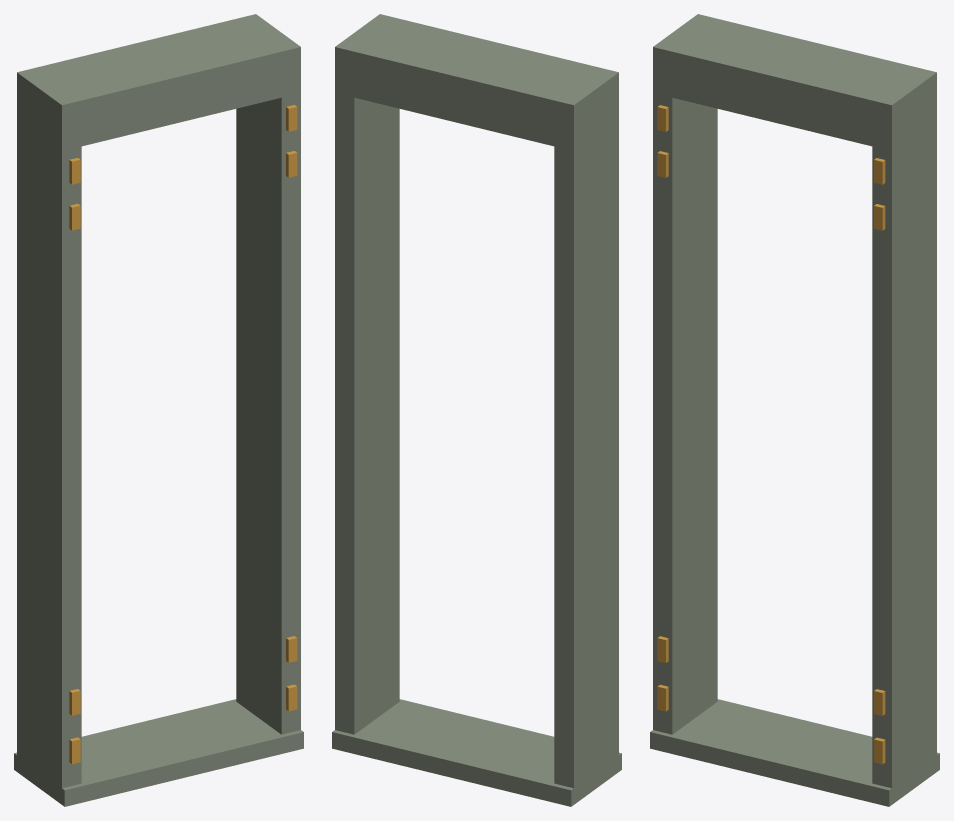
The model's file is CMU3DHybrisaGlassAirlockOpen.glb.
3 renders of one model, left to right at view 1: azimuth 30°, elevation 25°; view 2: azimuth 150°, elevation 25°; view 3: azimuth 330°, elevation 25°, orthographic.
Parts seen in each view (by area): view 1: left jamb, right jamb, lintel, threshold; view 2: left jamb, right jamb, lintel, threshold; view 3: right jamb, left jamb, lintel, threshold.
Boxes of the visible parts, left/top/right/bottom form: left jamb: left=17, top=106, right=81, bottom=804; right jamb: left=236, top=80, right=300, bottom=734; lintel: left=17, top=14, right=300, bottom=150; threshold: left=14, top=699, right=303, bottom=806; left jamb: left=554, top=106, right=618, bottom=798; right jamb: left=335, top=80, right=399, bottom=734; lintel: left=335, top=14, right=618, bottom=150; threshold: left=332, top=699, right=621, bottom=806; right jamb: left=872, top=106, right=936, bottom=801; left jamb: left=653, top=80, right=717, bottom=734; lintel: left=653, top=14, right=936, bottom=150; threshold: left=650, top=699, right=939, bottom=806.
Bounding box in the file's own units: 0.98 × 2.74 × 0.36.
